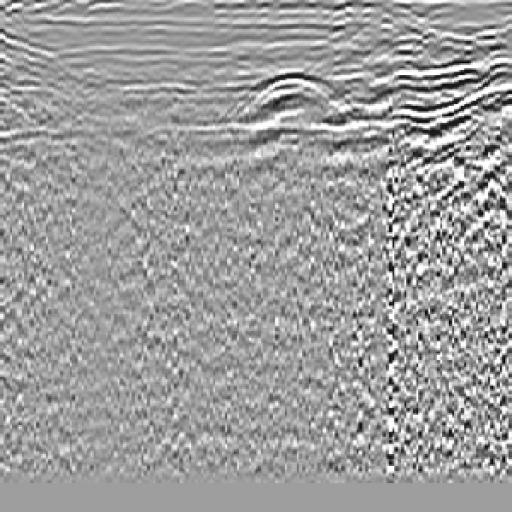metalic: (232, 50, 360, 128)
